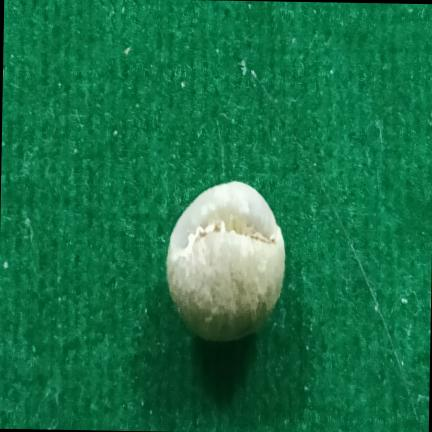cut: (166, 181, 284, 340)
